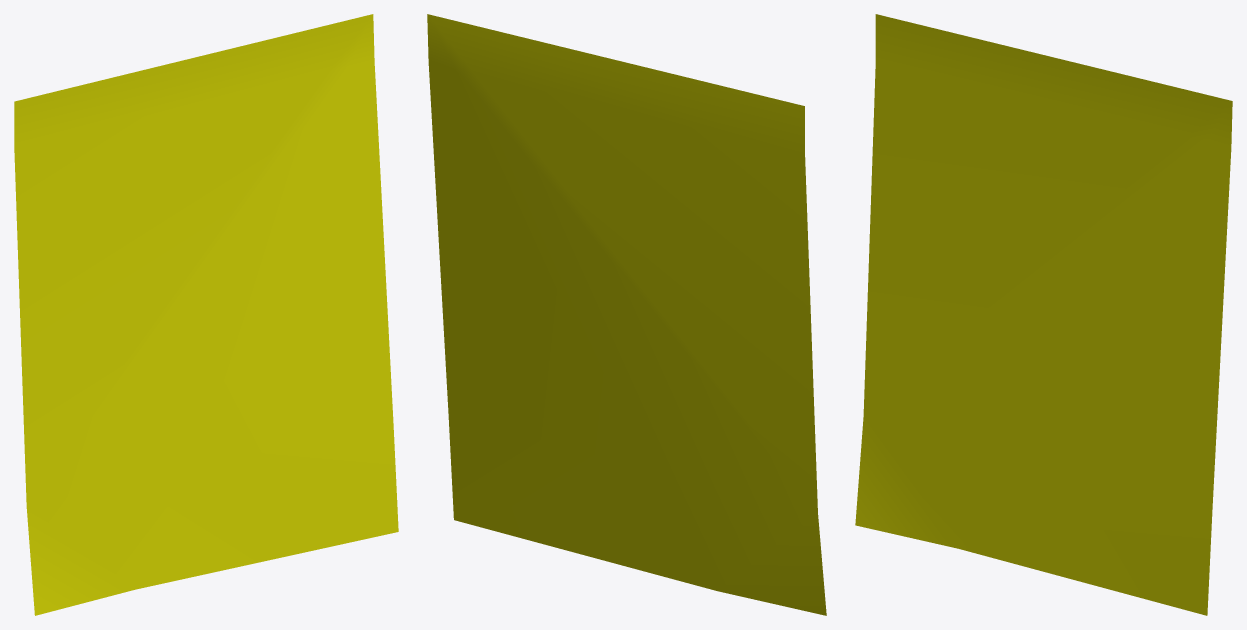
Rendered from SM_Paper_1.fbx.
3 renders of one model, left to right at view 1: azimuth 30°, elevation 25°; view 2: azimuth 150°, elevation 25°; view 3: azimuth 330°, elevation 25°, orthographic. The views are drawn at different scales.
Visible parts, largest first — view 1: SM_Paper; view 2: SM_Paper; view 3: SM_Paper.
Boxes of the visible parts, <box> form: SM_Paper: <box>14,14,398,615</box>; SM_Paper: <box>427,14,826,615</box>; SM_Paper: <box>855,14,1232,615</box>.
Size of the model in its own units: 28.97 by 3.55 by 38.51.
